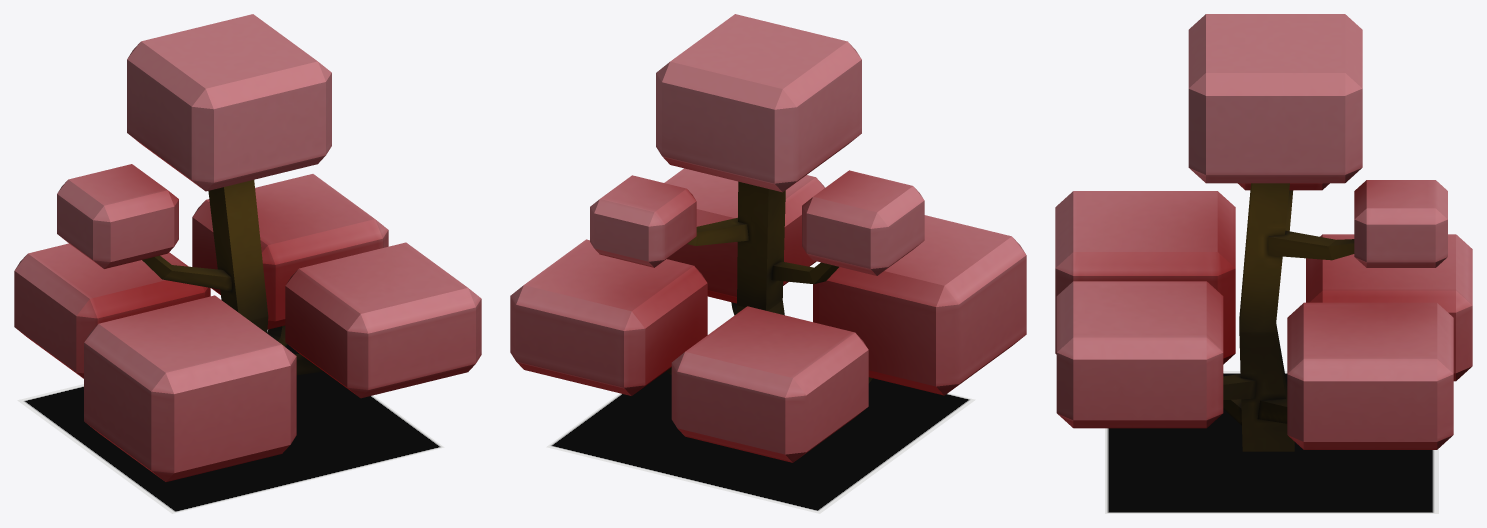
The model's file is 2x2_cherry_tree.FBX.
The picture shows the model from 3 angles, left to right: view 1: azimuth 30°, elevation 25°; view 2: azimuth 150°, elevation 25°; view 3: azimuth 270°, elevation 25°; orthographic projection. The views are drawn at different scales.
Visible parts, largest first — view 1: 2x2_cherry_tree, 2x2_cherry_tree_soft_shadow; view 2: 2x2_cherry_tree, 2x2_cherry_tree_soft_shadow; view 3: 2x2_cherry_tree, 2x2_cherry_tree_soft_shadow.
Part boxes in pixels (<box>): 2x2_cherry_tree: <box>14,14,481,481</box>; 2x2_cherry_tree_soft_shadow: <box>17,344,444,513</box>; 2x2_cherry_tree: <box>510,14,1026,462</box>; 2x2_cherry_tree_soft_shadow: <box>546,334,975,513</box>; 2x2_cherry_tree: <box>1055,14,1472,451</box>; 2x2_cherry_tree_soft_shadow: <box>1105,371,1438,513</box>.
Bounding box in the file's own units: 1906 × 1985 × 1860.
